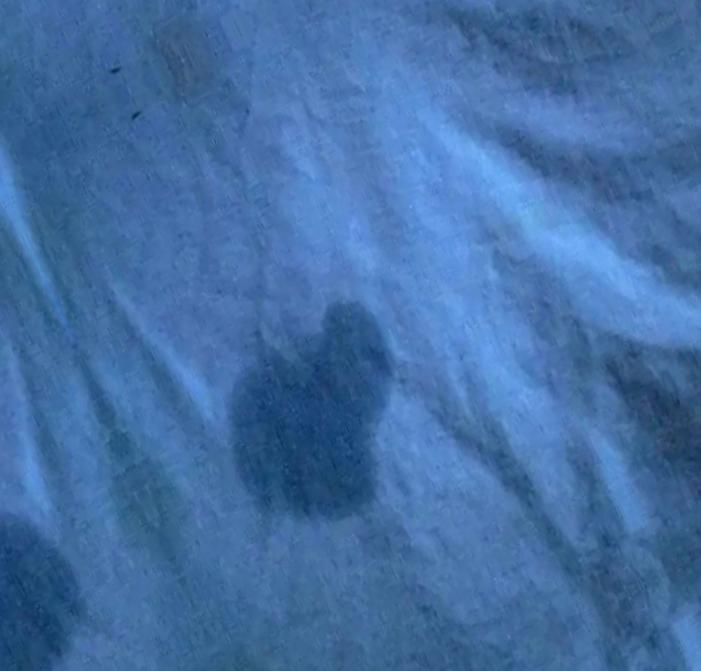stain: (225, 299, 404, 530), (3, 507, 95, 669)
